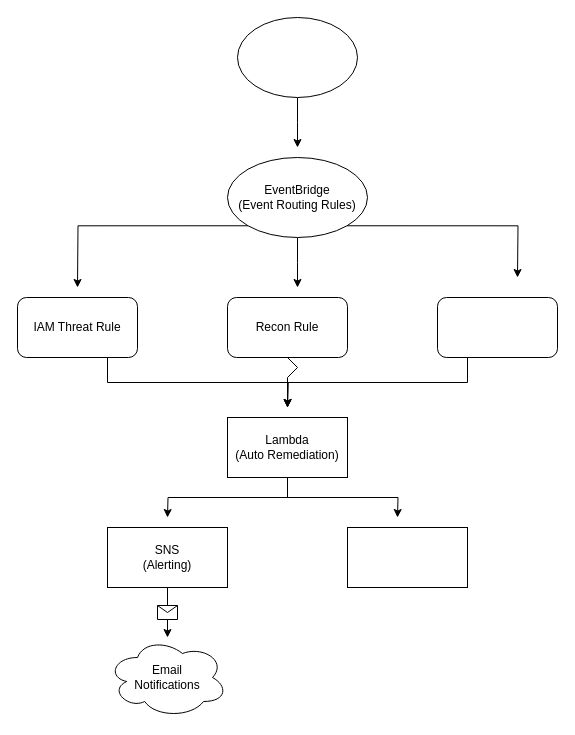
Some shapes in this 575 by 735 pixel diagram are drawn without their labels. The centre of each missing label's shape, as x and y in pixels:
"CloudWatch Logs (observability)" goes at point 407,557.
"GuardDuty (Threat Detection)" goes at point 297,57.
"High Severity" goes at point 497,327.
